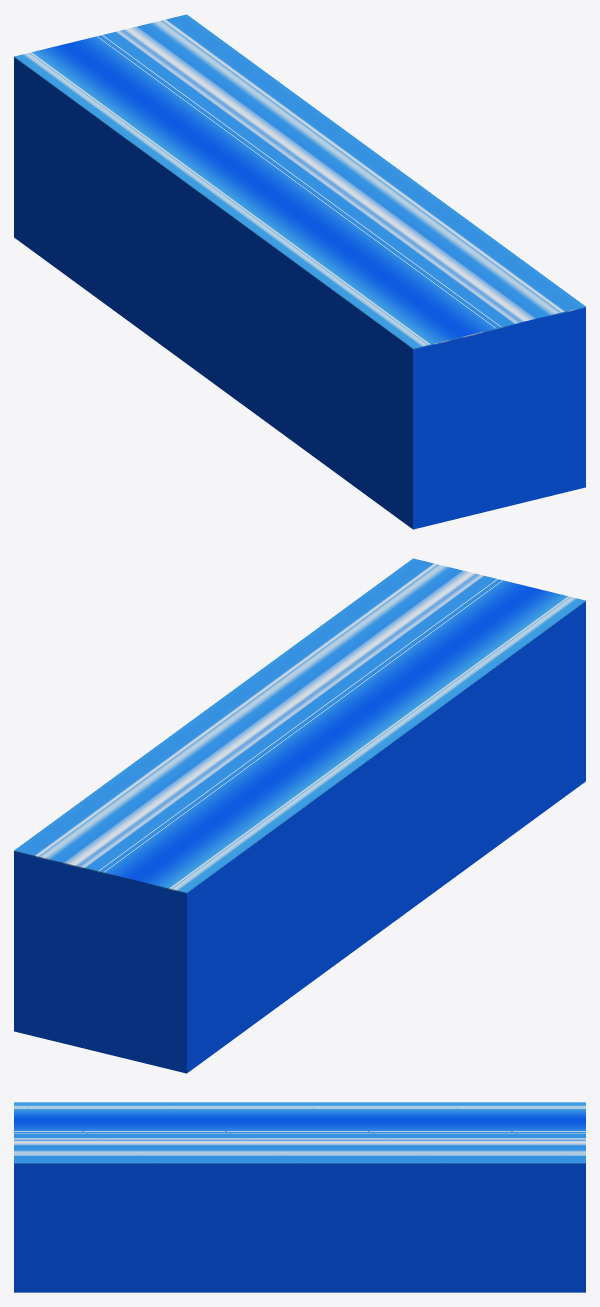
File: MG-ChJ-CS-09ShuiXia-4.FBX
3 views of the same model, one above another, from view 1: azimuth 30°, elevation 25°; view 2: azimuth 150°, elevation 25°; view 3: azimuth 270°, elevation 25° (orthographic). The views are drawn at different scales.
Parts seen in each view (by area): view 1: MG-ChJ-CS-09ShuiXia-4; view 2: MG-ChJ-CS-09ShuiXia-4; view 3: MG-ChJ-CS-09ShuiXia-4.
Boxes of the visible parts, bbox=[...] form: MG-ChJ-CS-09ShuiXia-4: bbox=[14, 14, 585, 529]; MG-ChJ-CS-09ShuiXia-4: bbox=[14, 558, 585, 1073]; MG-ChJ-CS-09ShuiXia-4: bbox=[14, 1102, 585, 1292].
Size of the model in its own units: 39.37 by 39.37 by 157.
